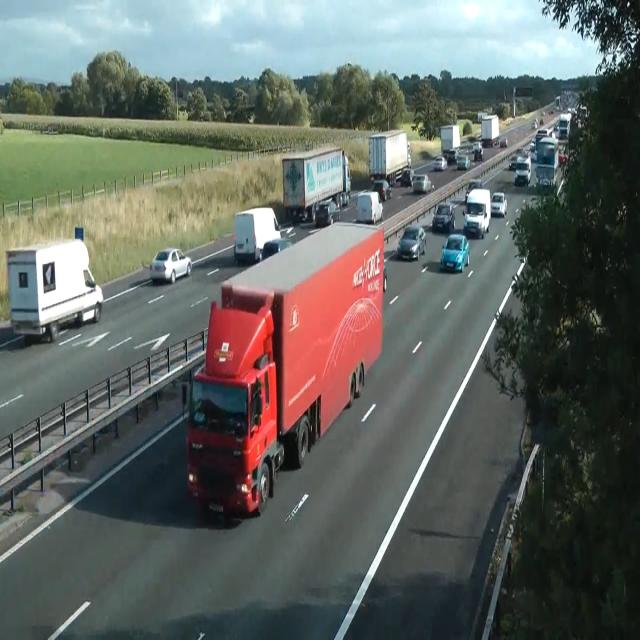bus: (73, 266, 103, 324), (150, 247, 192, 284), (440, 234, 470, 273), (396, 224, 426, 260), (432, 203, 456, 233), (262, 238, 292, 262), (510, 256, 526, 290), (534, 164, 556, 188), (490, 191, 508, 217), (372, 179, 392, 201), (464, 178, 482, 202), (411, 174, 431, 194), (400, 168, 415, 187), (558, 142, 568, 166), (472, 141, 483, 161), (433, 156, 448, 170), (456, 155, 470, 169), (383, 257, 387, 291), (472, 141, 482, 152), (509, 157, 517, 170), (530, 137, 536, 152), (499, 137, 507, 147), (531, 118, 537, 129)
jeep: (233, 205, 281, 264), (462, 188, 490, 238), (514, 154, 531, 186)
minibus: (183, 221, 387, 518), (5, 236, 103, 344), (281, 146, 351, 224), (368, 129, 412, 187), (535, 136, 559, 189), (355, 190, 383, 225), (440, 124, 460, 162), (480, 113, 500, 147)
